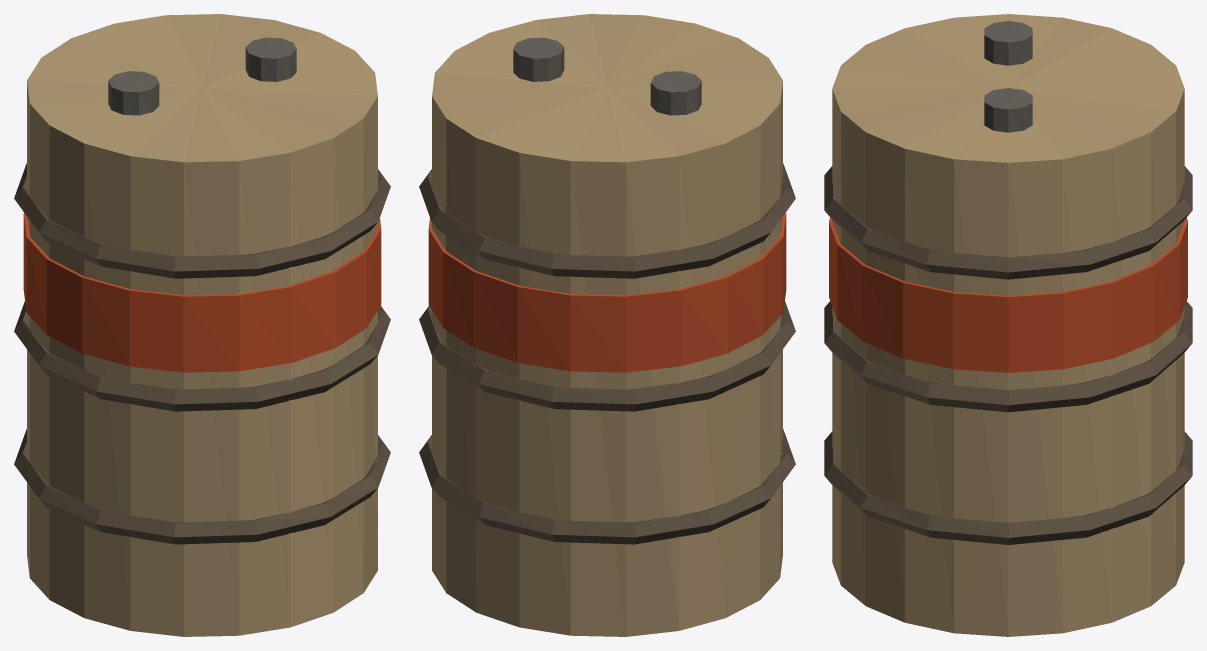
The model's file is explosive_fuel_barrel.glb.
The picture shows the model from 3 angles, left to right: view 1: azimuth 30°, elevation 25°; view 2: azimuth 150°, elevation 25°; view 3: azimuth 270°, elevation 25°; orthographic projection.
Visible parts, largest first — view 1: Drum_primary, Drum_accent, Drum_secondary, Caps; view 2: Drum_primary, Drum_accent, Drum_secondary, Caps; view 3: Drum_primary, Drum_accent, Drum_secondary, Caps.
Part boxes in pixels (x1,y1,x2,y2): Drum_primary: (27, 14, 377, 636); Drum_accent: (23, 212, 381, 372); Drum_secondary: (14, 163, 390, 544); Caps: (108, 37, 296, 115); Drum_primary: (432, 14, 782, 636); Drum_accent: (428, 212, 786, 372); Drum_secondary: (419, 163, 795, 544); Caps: (513, 37, 701, 115); Drum_primary: (832, 14, 1184, 636); Drum_accent: (829, 217, 1187, 372); Drum_secondary: (824, 166, 1192, 544); Caps: (984, 21, 1032, 132).
Size of the model in its own units: 0.664 by 0.965 by 0.6474.
